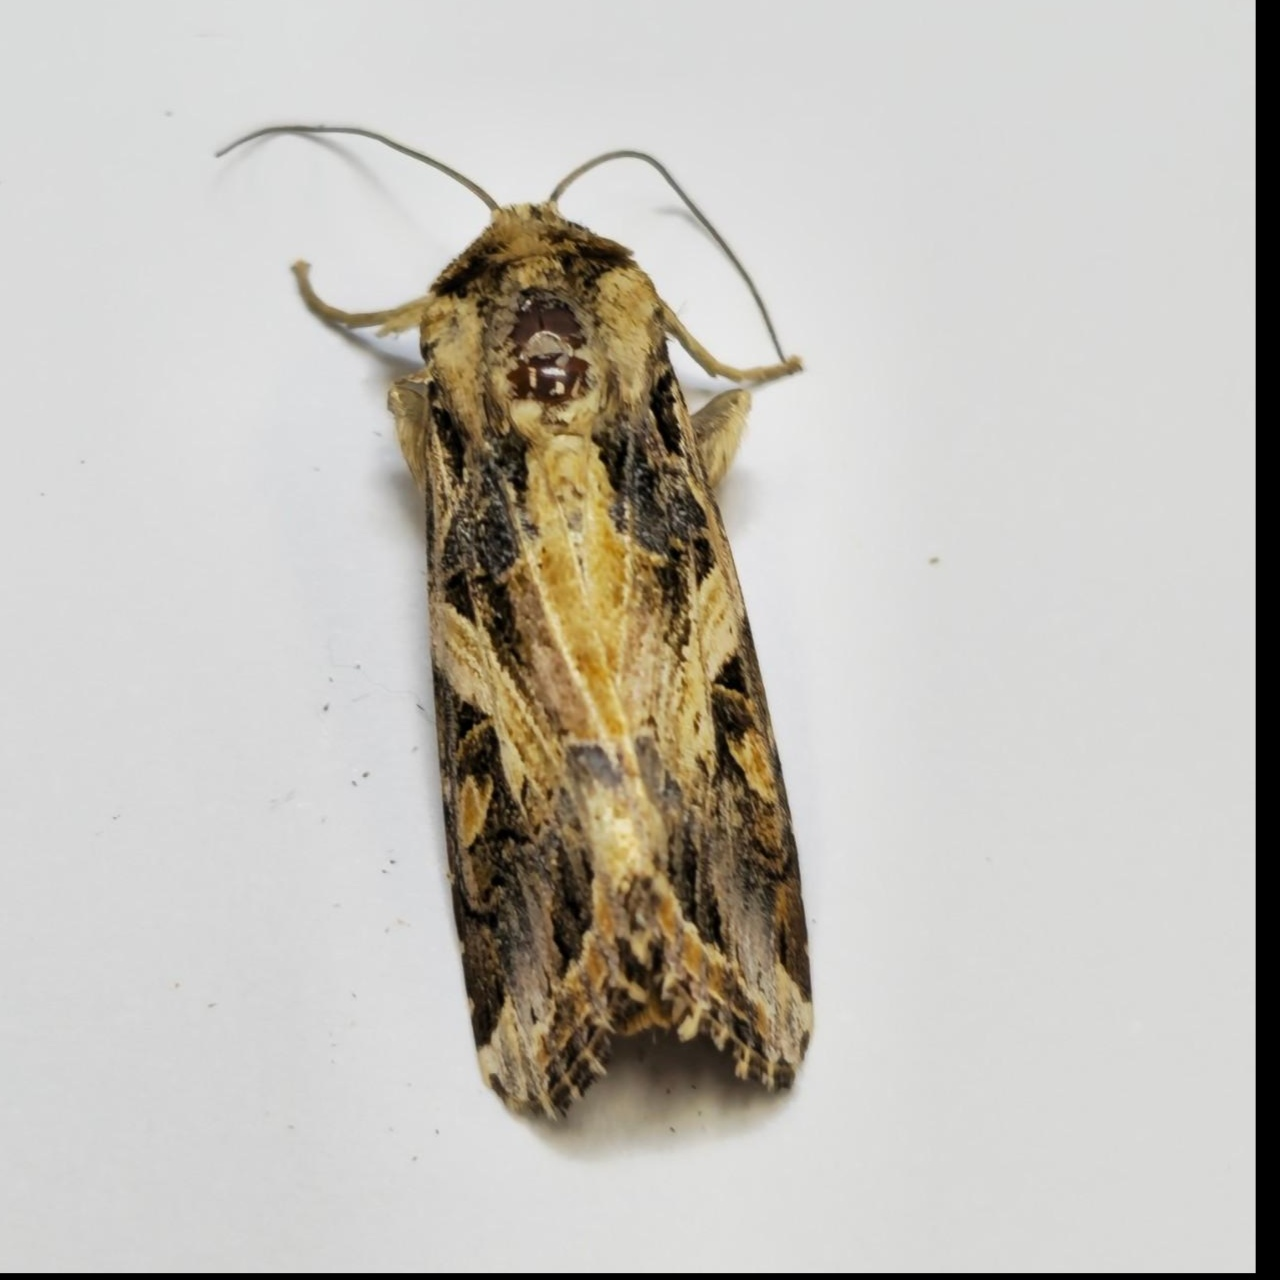Spodoptera litura: (212, 121, 815, 1126)
